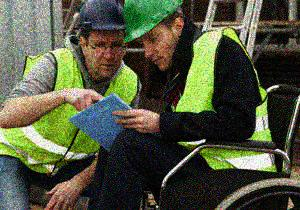helmet: (122, 1, 187, 72), (75, 1, 127, 78)
